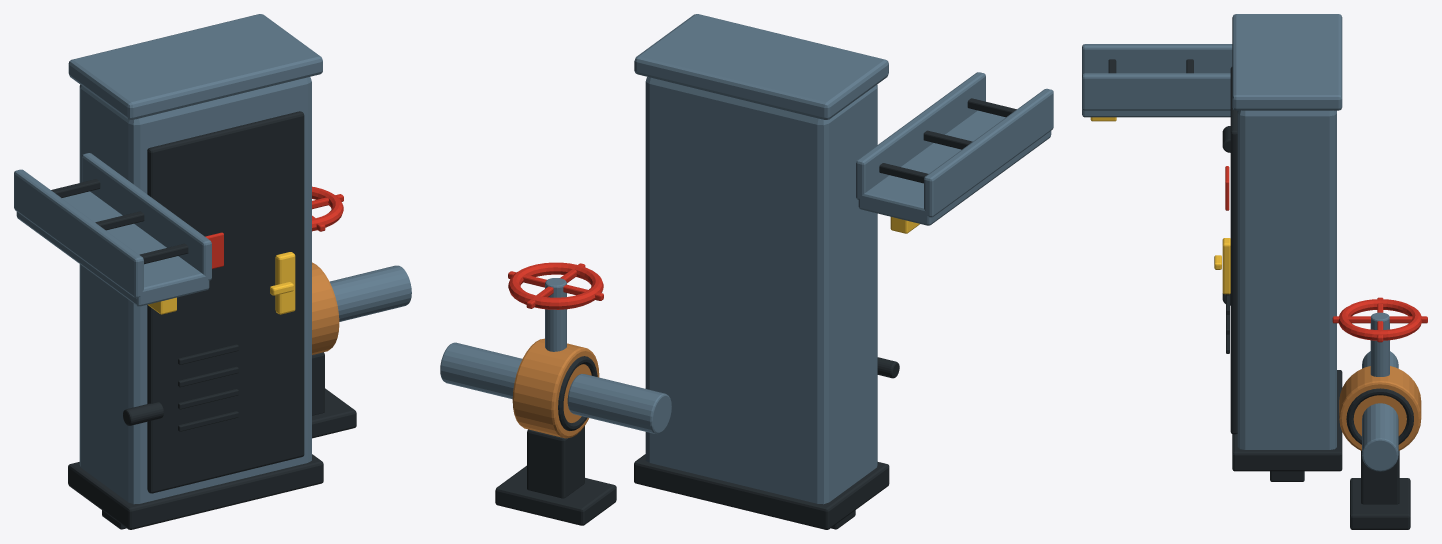
File: utility-room-layout-c.glb
3 views of the same model, side by side, from view 1: azimuth 30°, elevation 25°; view 2: azimuth 150°, elevation 25°; view 3: azimuth 270°, elevation 25° (orthographic). The views are drawn at different scales.
Visible parts, largest first — view 1: EXPORT_layout_c_cabinet_door.002, EXPORT_layout_c_cabinet_body.002, EXPORT_layout_c_cabinet_top_cap.002, EXPORT_layout_c_cabinet_base_plinth.002, EXPORT_layout_c_tray_side_+0.002, EXPORT_layout_c_tray_base_1m.002, EXPORT_layout_c_tray_side_-0.002, EXPORT_layout_c_pipe_segment_-0.002, EXPORT_layout_c_valve_body.002, EXPORT_layout_c_valve_floor_bracket.002, EXPORT_layout_c_cabinet_handle_mount.002, EXPORT_layout_c_valve_support_pedestal.002 (+5 smaller); view 2: EXPORT_layout_c_cabinet_body.002, EXPORT_layout_c_cabinet_top_cap.002, EXPORT_layout_c_cabinet_base_plinth.002, EXPORT_layout_c_tray_side_+0.002, EXPORT_layout_c_tray_base_1m.002, EXPORT_layout_c_valve_body.002, EXPORT_layout_c_tray_side_-0.002, EXPORT_layout_c_pipe_segment_+0.002, EXPORT_layout_c_valve_floor_bracket.002, EXPORT_layout_c_valve_support_pedestal.002, EXPORT_layout_c_pipe_segment_-0.002, EXPORT_layout_c_valve_handwheel.002 (+2 smaller); view 3: EXPORT_layout_c_cabinet_body.002, EXPORT_layout_c_cabinet_top_cap.002, EXPORT_layout_c_tray_side_-0.002, EXPORT_layout_c_tray_side_+0.002, EXPORT_layout_c_valve_body.002, EXPORT_layout_c_cabinet_base_plinth.002, EXPORT_layout_c_cabinet_door.002, EXPORT_layout_c_pipe_segment_-0.002, EXPORT_layout_c_valve_floor_bracket.002, EXPORT_layout_c_valve_handwheel.002, EXPORT_layout_c_valve_support_pedestal.002, EXPORT_layout_c_tray_base_1m.002 (+3 smaller).
Part boxes in pixels (x1,y1,x2,y2): EXPORT_layout_c_cabinet_door.002: (147,111,304,493); EXPORT_layout_c_cabinet_body.002: (79,77,311,504); EXPORT_layout_c_cabinet_top_cap.002: (68,14,322,119); EXPORT_layout_c_cabinet_base_plinth.002: (68,454,323,529); EXPORT_layout_c_tray_side_+0.002: (14,169,143,298); EXPORT_layout_c_tray_base_1m.002: (16,191,209,306); EXPORT_layout_c_tray_side_-0.002: (82,153,211,280); EXPORT_layout_c_pipe_segment_-0.002: (330,265,411,321); EXPORT_layout_c_valve_body.002: (312,262,339,354); EXPORT_layout_c_valve_floor_bracket.002: (312,388,356,438); EXPORT_layout_c_cabinet_handle_mount.002: (275,252,295,314); EXPORT_layout_c_valve_support_pedestal.002: (312,352,324,415); EXPORT_layout_c_cabinet_body.002: (645,77,877,504); EXPORT_layout_c_cabinet_top_cap.002: (634,14,888,119); EXPORT_layout_c_cabinet_base_plinth.002: (634,454,889,529); EXPORT_layout_c_tray_side_+0.002: (924,88,1053,217); EXPORT_layout_c_tray_base_1m.002: (858,110,1051,225); EXPORT_layout_c_valve_body.002: (512,338,599,438); EXPORT_layout_c_tray_side_-0.002: (856,72,985,199); EXPORT_layout_c_pipe_segment_+0.002: (567,374,671,433); EXPORT_layout_c_valve_floor_bracket.002: (495,465,616,525); EXPORT_layout_c_valve_support_pedestal.002: (527,426,584,498); EXPORT_layout_c_pipe_segment_-0.002: (440,342,522,399); EXPORT_layout_c_valve_handwheel.002: (508,262,603,309); EXPORT_layout_c_cabinet_body.002: (1237,110,1336,449); EXPORT_layout_c_cabinet_top_cap.002: (1232,14,1342,110); EXPORT_layout_c_tray_side_-0.002: (1082,73,1230,110); EXPORT_layout_c_tray_side_+0.002: (1082,44,1232,75); EXPORT_layout_c_valve_body.002: (1339,366,1421,450); EXPORT_layout_c_cabinet_base_plinth.002: (1232,370,1342,471); EXPORT_layout_c_cabinet_door.002: (1230,67,1237,434); EXPORT_layout_c_pipe_segment_-0.002: (1362,403,1398,471); EXPORT_layout_c_valve_floor_bracket.002: (1350,478,1410,529); EXPORT_layout_c_valve_handwheel.002: (1338,299,1421,340); EXPORT_layout_c_valve_support_pedestal.002: (1361,451,1399,504); EXPORT_layout_c_tray_base_1m.002: (1082,108,1230,117).
Bounding box in the file's own units: 2.05 × 2 × 1.6.
